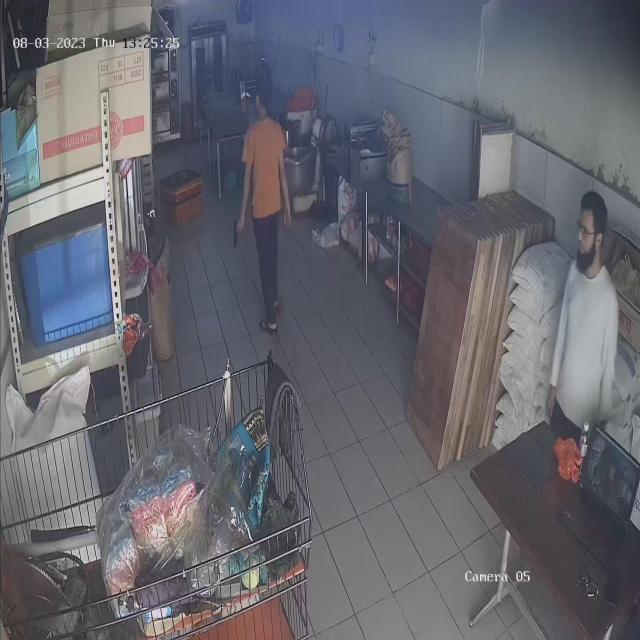Gun: (221, 212, 247, 264)
